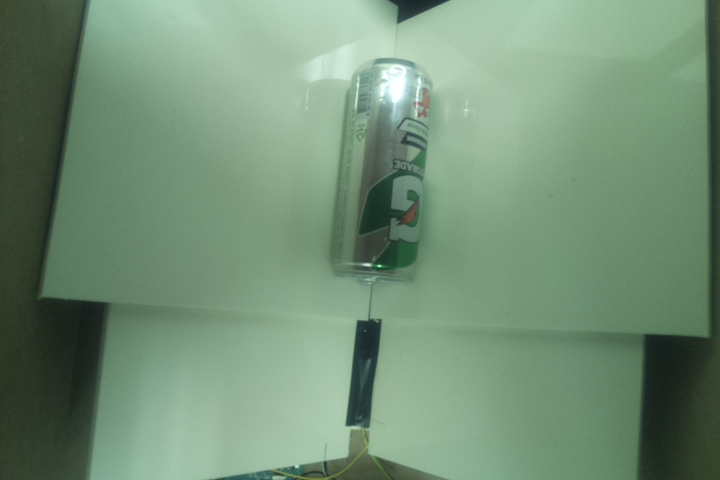can: (327, 53, 435, 287)
